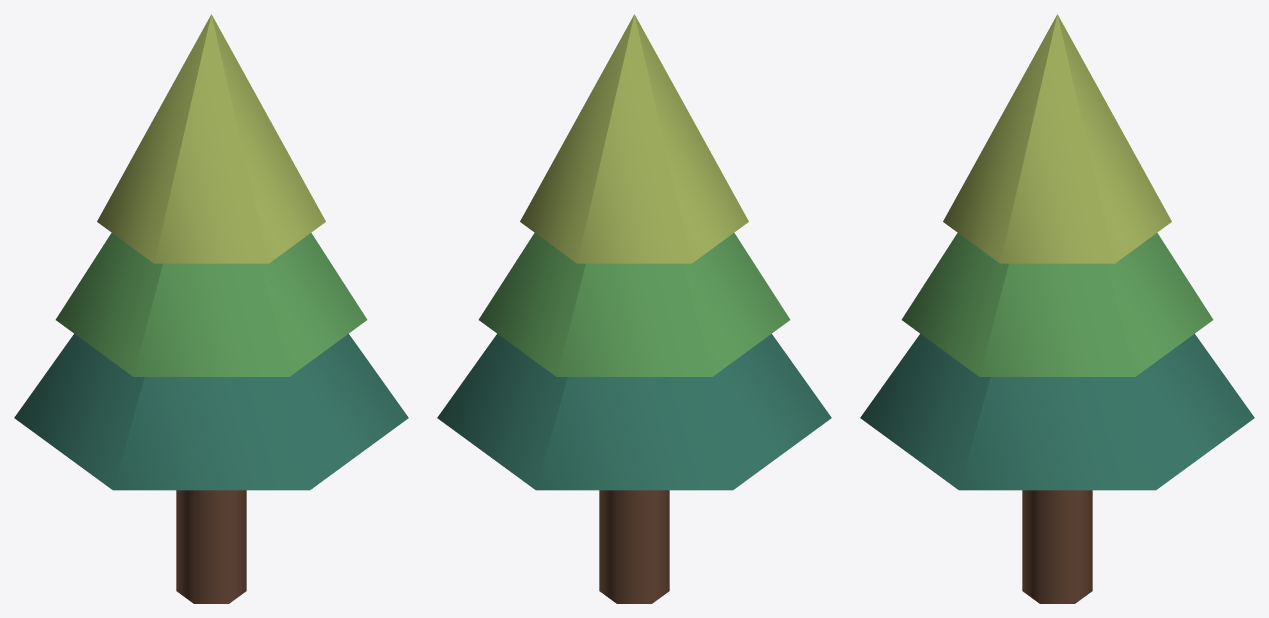
File: tree.glb
The picture shows the model from 3 angles, left to right: view 1: azimuth 30°, elevation 25°; view 2: azimuth 150°, elevation 25°; view 3: azimuth 270°, elevation 25°; orthographic projection.
Bounding box in the file's own units: 2.68 × 5 × 3.1.
